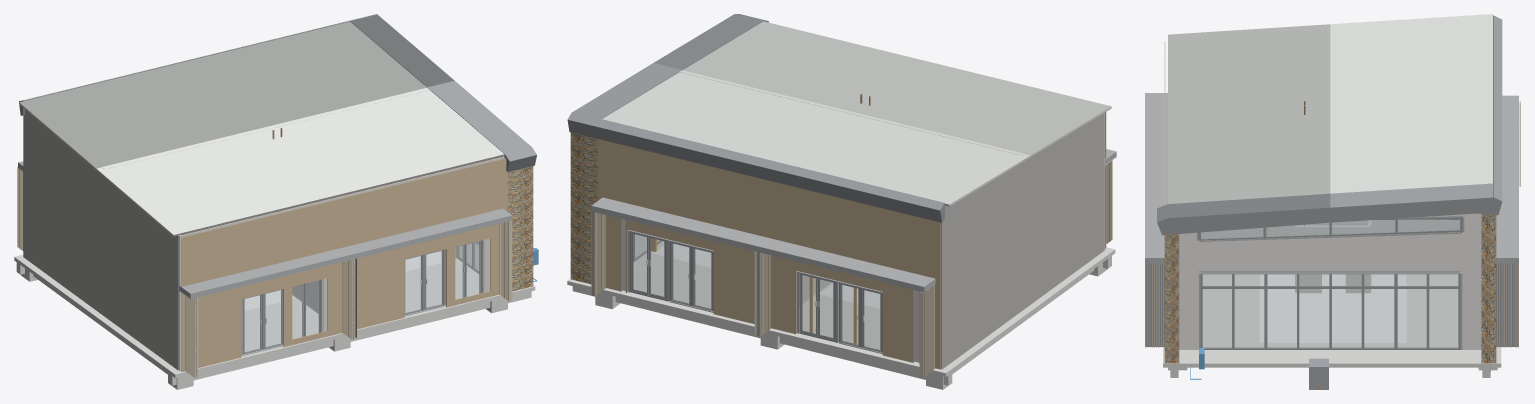
The model's file is NAVE_2_GASTRONOMICO.glb.
3 views of the same model, side by side, from view 1: azimuth 30°, elevation 25°; view 2: azimuth 150°, elevation 25°; view 3: azimuth 270°, elevation 25° (orthographic). The views are drawn at different scales.
Visible parts, largest first — view 1: Geom3D (×48), Geom3D_CENEFA#10_CENEFA; view 2: Geom3D (×51), Cara_cierre_2, Cara_cierre_0, Geom3D_CENEFA#10_CENEFA, Cara_cierre_3, Cara_cierre_1; view 3: Geom3D (×53), Geom3D_CENEFA#10_CENEFA.
Boxes of the visible parts, x1,y1,x2,y2 form: Geom3D (×48): (14, 14, 536, 389); Geom3D_CENEFA#10_CENEFA: (351, 14, 454, 87); Geom3D (×51): (567, 14, 1115, 389); Cara_cierre_2: (713, 241, 796, 334); Cara_cierre_0: (882, 282, 913, 362); Geom3D_CENEFA#10_CENEFA: (573, 63, 681, 118); Cara_cierre_3: (627, 220, 713, 250); Cara_cierre_1: (796, 261, 882, 291); Geom3D (×53): (1145, 14, 1520, 389); Geom3D_CENEFA#10_CENEFA: (1330, 183, 1492, 207).
Bounding box in the file's own units: 16.36 × 7.24 × 13.3.
Materials: 34 (1 with a texture image).
